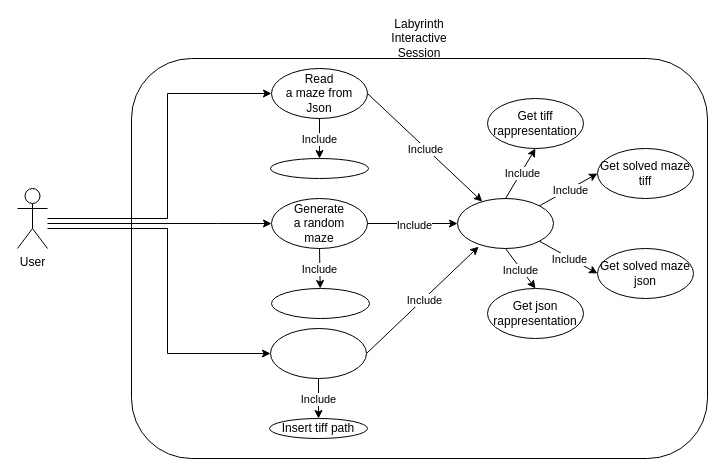
This 725x476 diagram has some shape labels left out. Each missing label, with the centre of its shape:
"Insert json path" goes at point 319,168.
"Insert maze params" goes at point 320,303.
"Read a maze from tiff image" goes at point 318,353.
"Retrive maze solution" goes at point 505,223.
